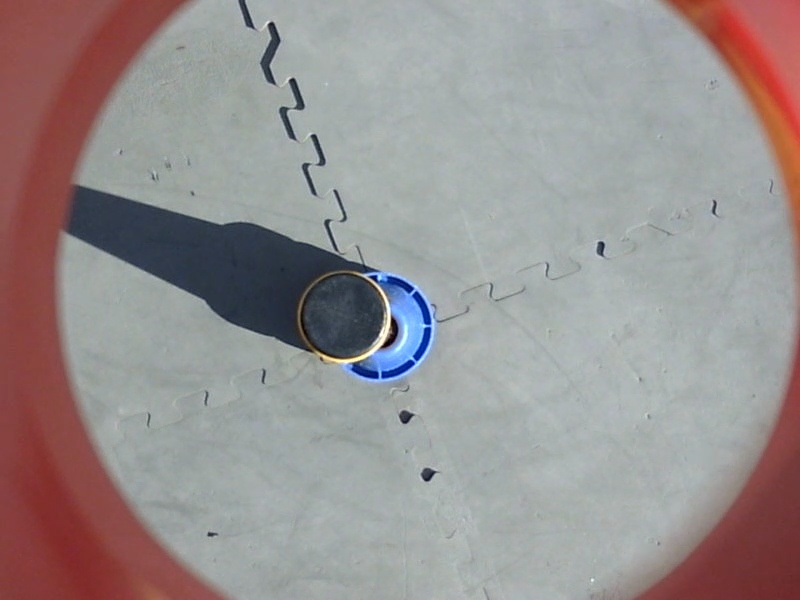tip: (290, 265, 395, 367)
